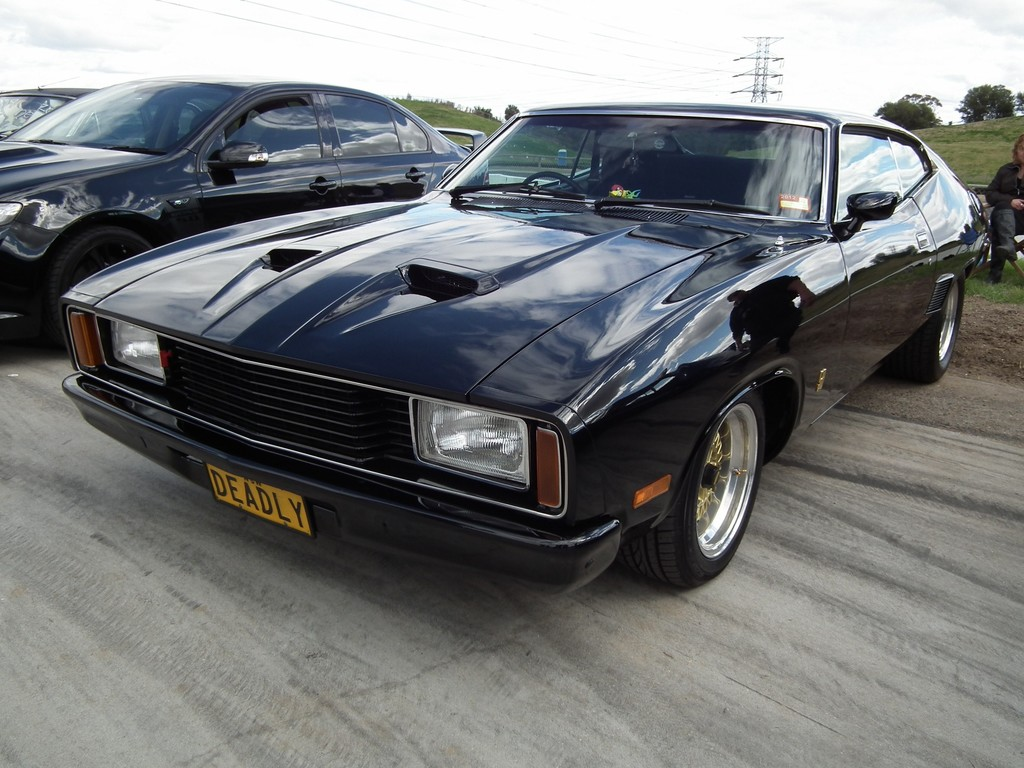mobil: (76, 98, 1024, 631), (1, 76, 462, 340)
